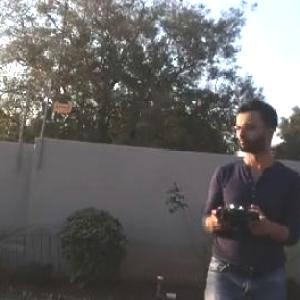follow: (196, 96, 299, 299)
